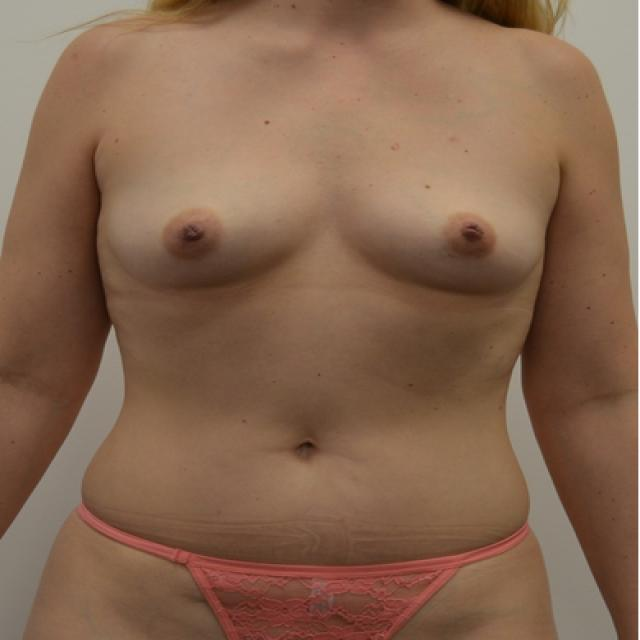Seno ileso: (94, 138, 323, 316), (331, 137, 556, 316)
